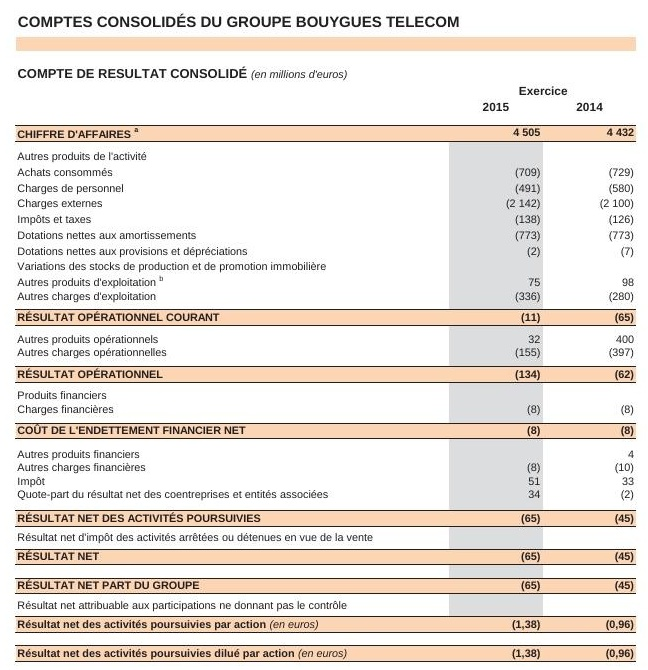table: (0, 0, 648, 670)
